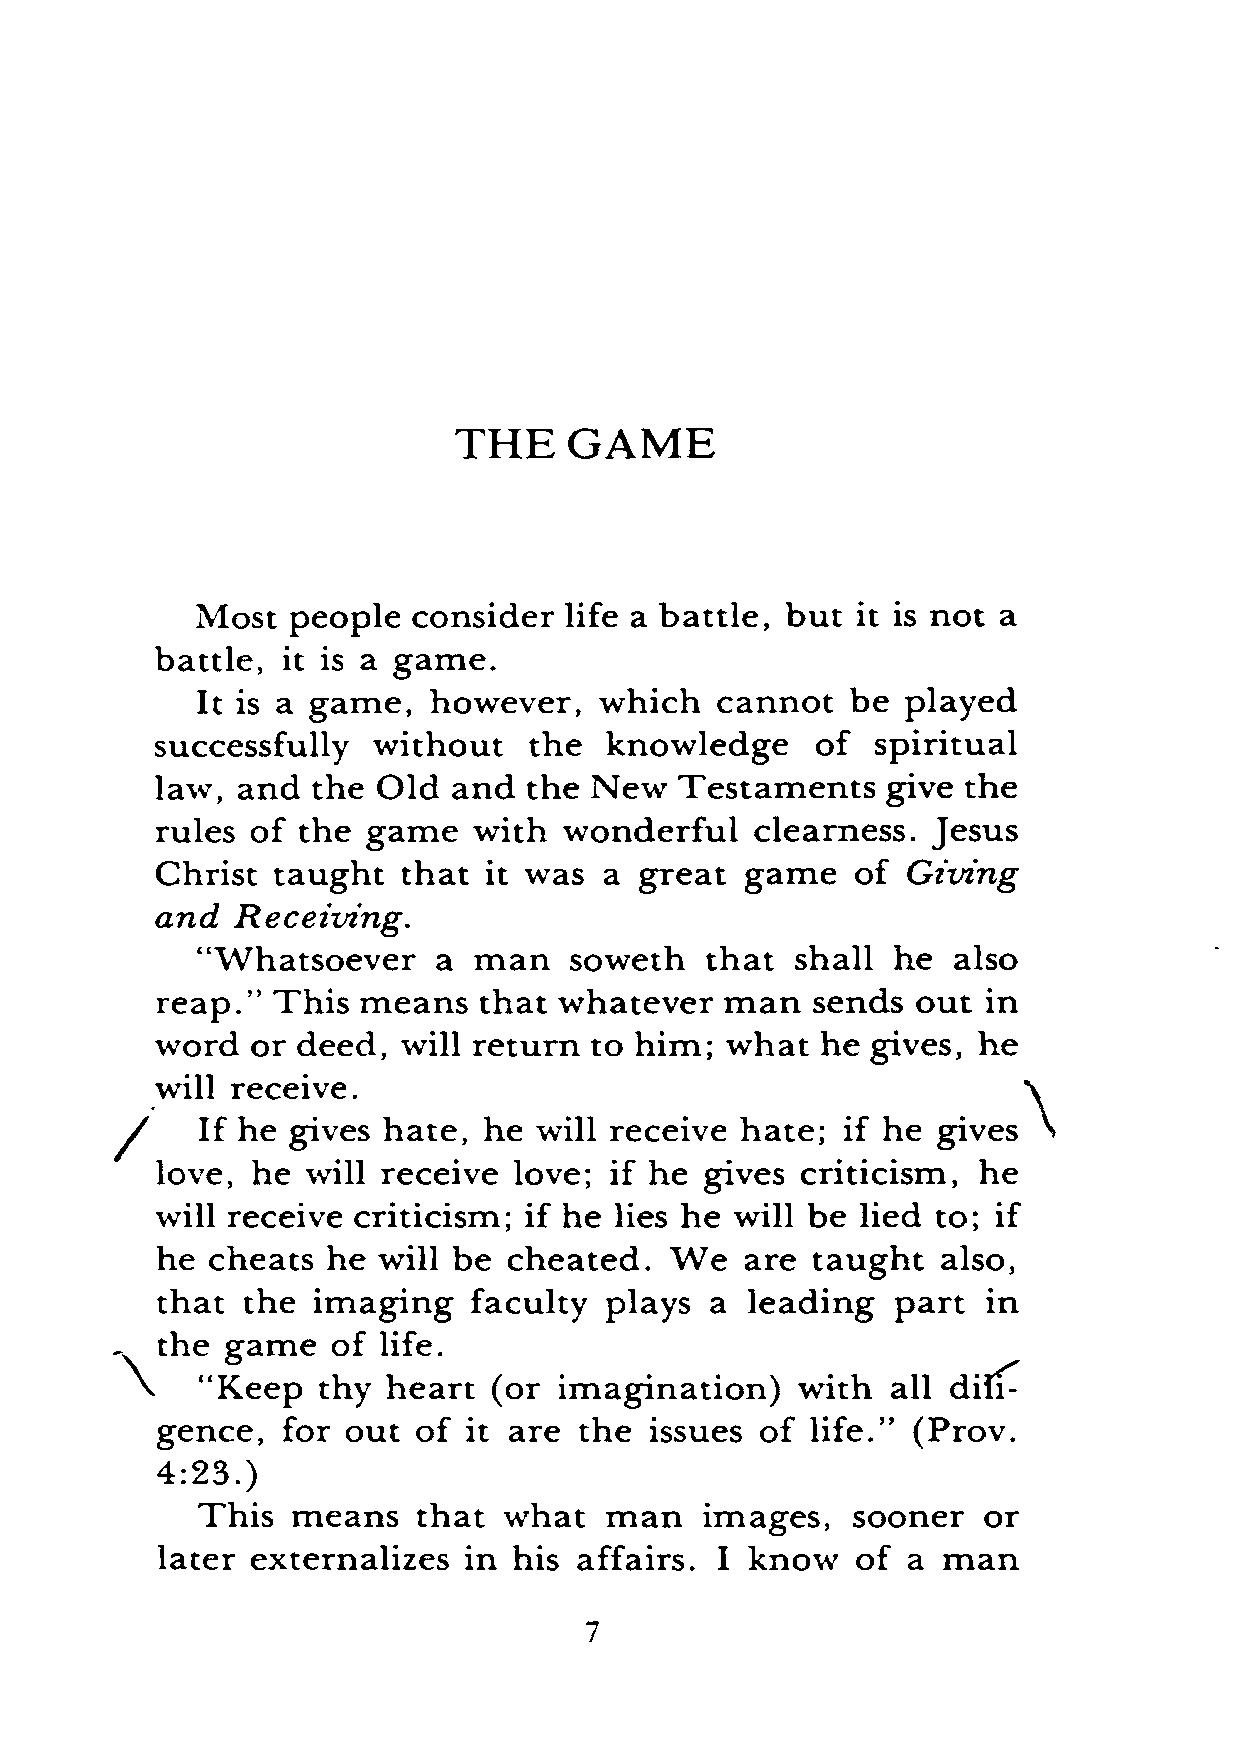chapter: (451, 423, 717, 463)
content: (150, 599, 1021, 1574)
content_pagenumber: (578, 1614, 604, 1647)
